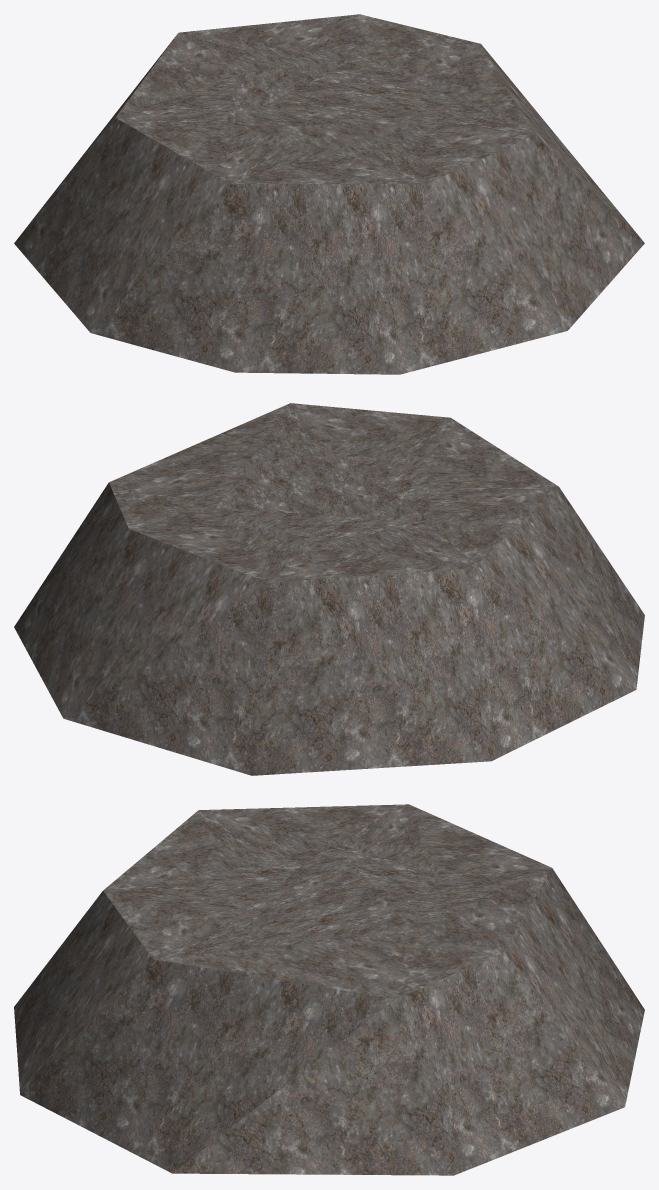
File: fort_base.gltf
The picture shows the model from 3 angles, top to bottom: view 1: azimuth 30°, elevation 25°; view 2: azimuth 150°, elevation 25°; view 3: azimuth 270°, elevation 25°; orthographic projection. The views are drawn at different scales.
Visible parts, largest first — view 1: object_5; view 2: object_5; view 3: object_5.
Part boxes in pixels (bbox=[...]): object_5: bbox=[14, 14, 644, 374]; object_5: bbox=[14, 403, 644, 775]; object_5: bbox=[14, 804, 644, 1175].
Size of the model in its own units: 9.11 by 2.52 by 9.14.
Materials: 1 (1 with a texture image).
